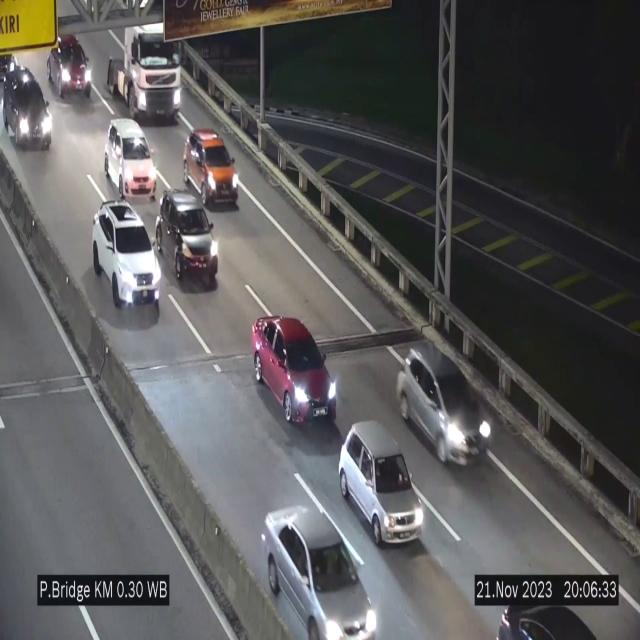Car: (262, 506, 378, 640), (398, 336, 488, 477), (340, 421, 424, 547), (252, 315, 338, 427), (92, 200, 162, 310), (158, 190, 222, 294), (0, 66, 61, 152), (185, 128, 239, 209), (104, 119, 156, 197), (46, 30, 94, 110)
Truck: (107, 27, 181, 120)
